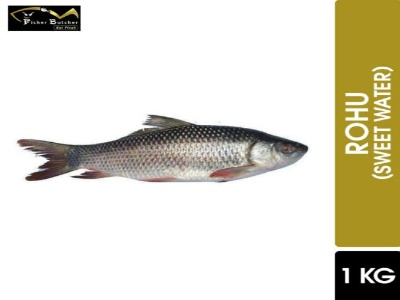rohu: (14, 103, 321, 204)
